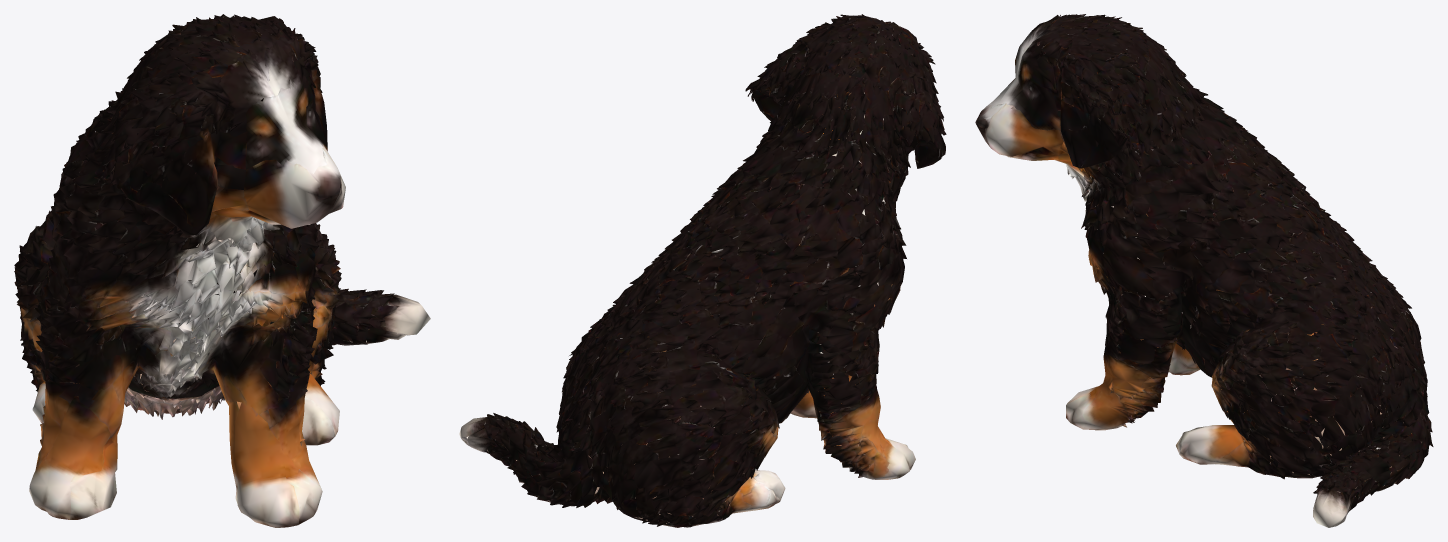
The model's file is puppy.glb.
The picture shows the model from 3 angles, left to right: view 1: azimuth 30°, elevation 25°; view 2: azimuth 150°, elevation 25°; view 3: azimuth 270°, elevation 25°; orthographic projection. The views are drawn at different scales.
Visible parts, largest first — view 1: puppy; view 2: puppy; view 3: puppy.
Boxes of the visible parts, x1,y1,x2,y2 form: puppy: (14, 14, 430, 527); puppy: (459, 14, 946, 527); puppy: (975, 14, 1433, 527).
Bounding box in the file's own units: 0.4048 × 0.3971 × 0.435.
1 material, 1 textured.
